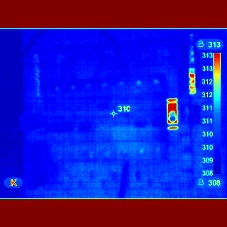Less: (170, 113, 175, 122)
